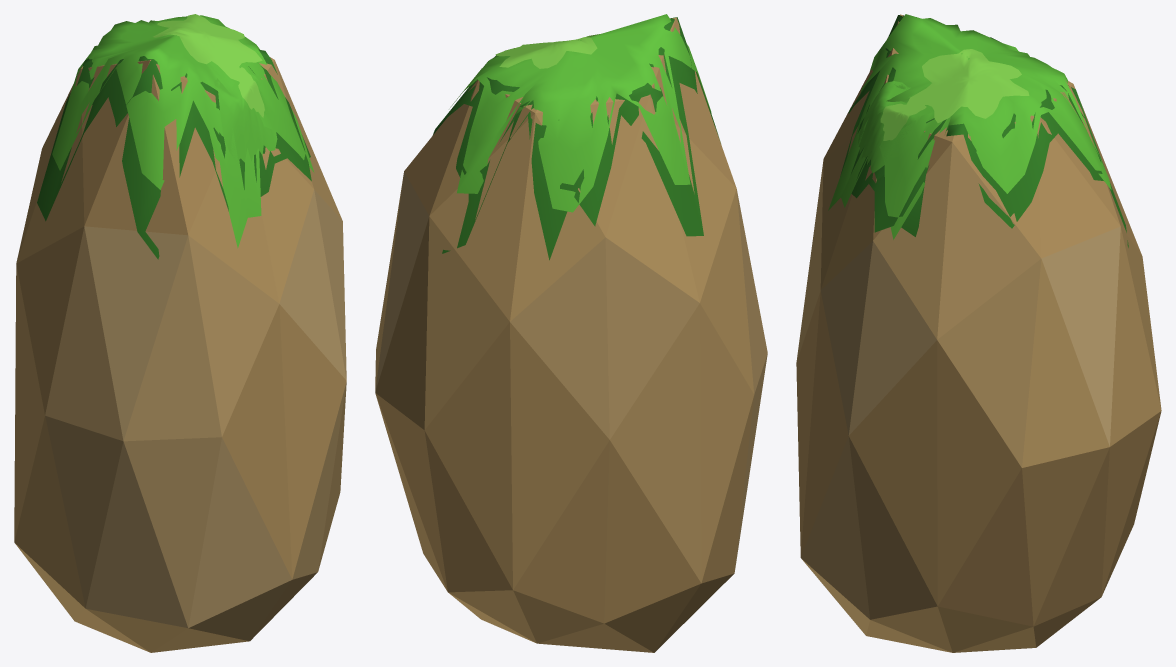
Rendered from rock_3_cap.glb.
3 renders of one model, left to right at view 1: azimuth 30°, elevation 25°; view 2: azimuth 150°, elevation 25°; view 3: azimuth 270°, elevation 25°, orthographic.
Parts seen in each view (by area): view 1: rock_3_cap; view 2: rock_3_cap; view 3: rock_3_cap.
Boxes of the visible parts, bbox=[...] form: rock_3_cap: bbox=[14, 14, 346, 652]; rock_3_cap: bbox=[375, 14, 767, 652]; rock_3_cap: bbox=[796, 14, 1161, 652].
Bounding box in the file's own units: 1.15 × 2.03 × 1.12.
